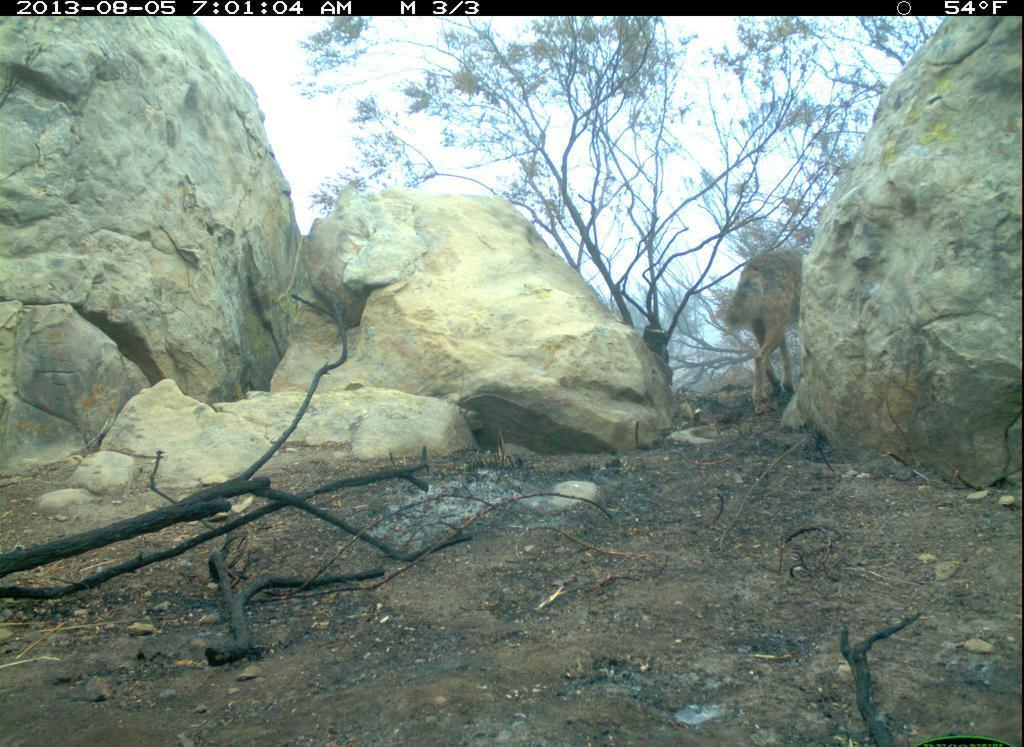coyote: (707, 214, 822, 434)
